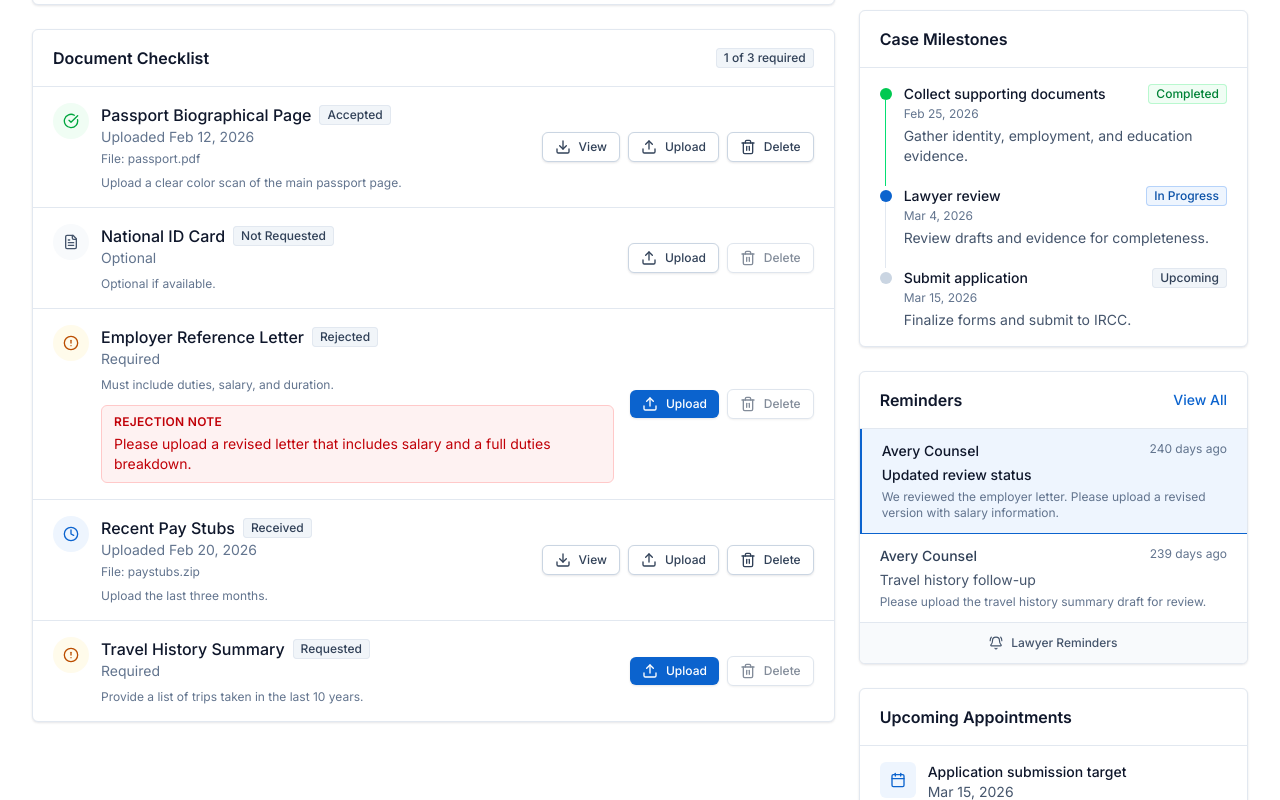
ClientDashboard reminders › CT-CLIENT-20: lists every reminder in the board view
(page scrolled)
Expected: the heading "Reminders" is shown, [880,388,962,412]
Step 1. Click the button "View All" → point(1200, 400), box [1173,390,1227,410]
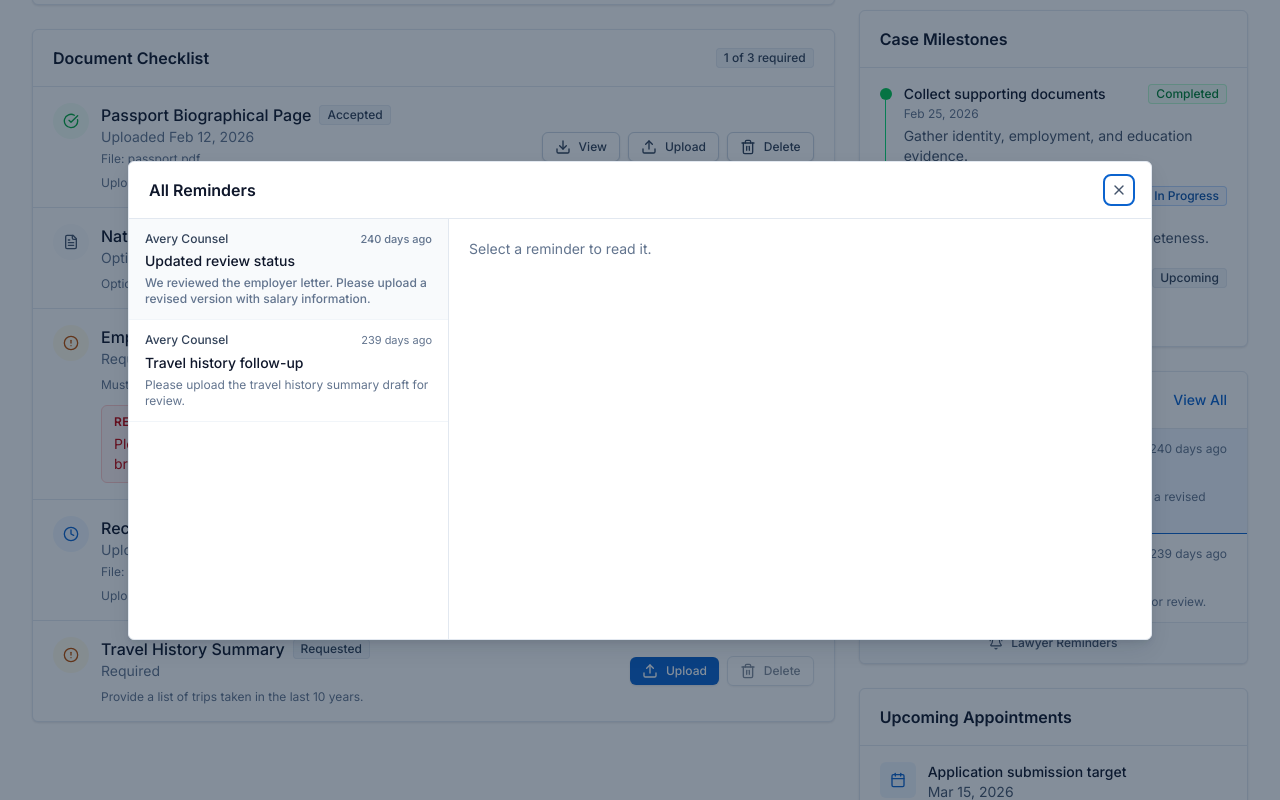
Now the text "Select a reminder to read it." is shown, box [469,240,652,256]
Now the text "Updated review status" is shown, box [145,252,295,269]
Now the text "Travel history follow-up" is shown, box [145,354,304,370]
Step 2. Click the button named "Close all reminders" → point(1119, 190), box [1107,178,1131,202]
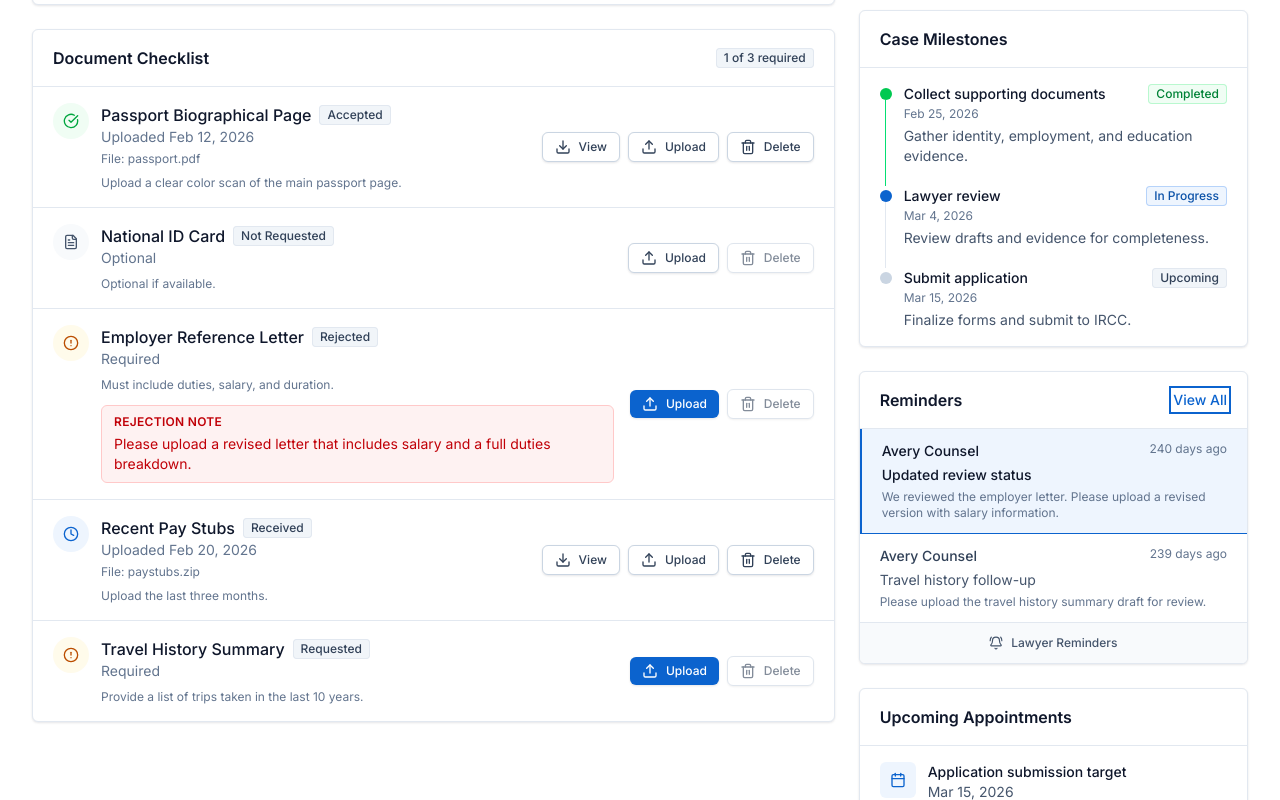
Now the heading "All Reminders" is gone
